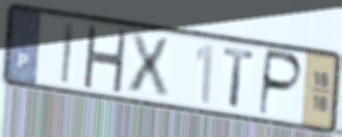1: (194, 41, 215, 106)
H: (80, 22, 129, 95)
I: (59, 19, 77, 86)
P: (256, 47, 305, 120)
T: (221, 45, 256, 111)
X: (126, 30, 171, 98)
